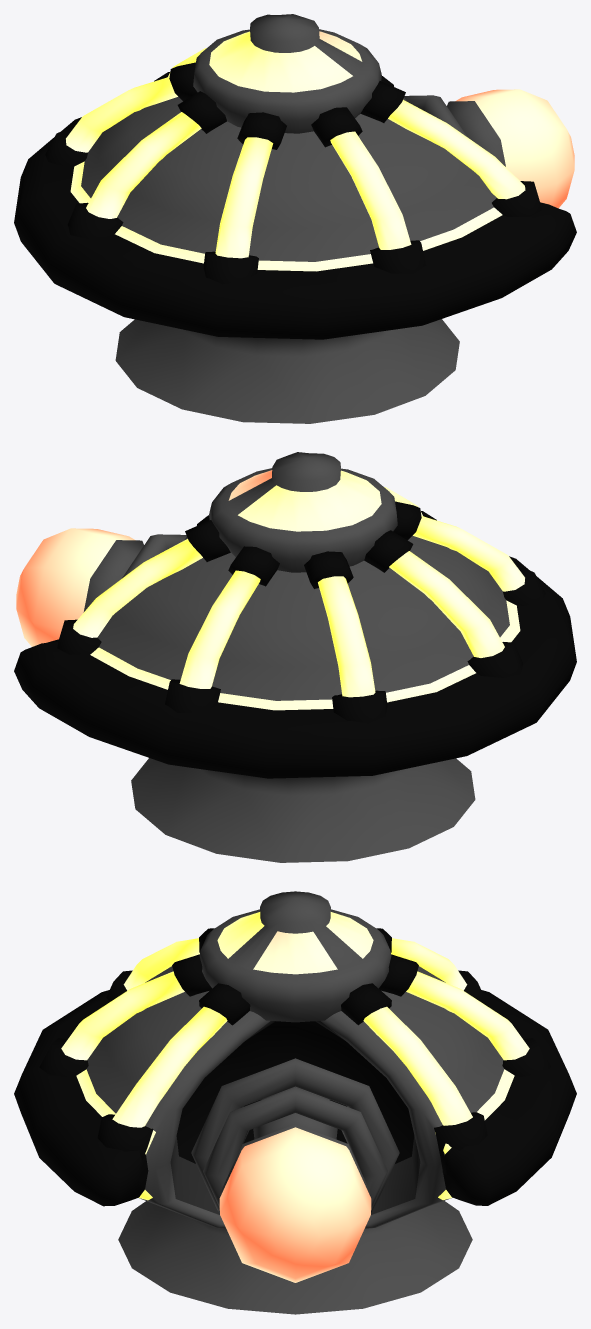
Rendered from PH_mesh_Traps_LazerBumper.fbx.
The picture shows the model from 3 angles, top to bottom: view 1: azimuth 30°, elevation 25°; view 2: azimuth 150°, elevation 25°; view 3: azimuth 270°, elevation 25°; orthographic projection.
Parts seen in each view (by area): view 1: mesh_Factory_Trap_BumperLaserTurret; view 2: mesh_Factory_Trap_BumperLaserTurret; view 3: mesh_Factory_Trap_BumperLaserTurret.
Boxes of the visible parts, x1=… form: mesh_Factory_Trap_BumperLaserTurret: x1=14, y1=14, x2=576, y2=423; mesh_Factory_Trap_BumperLaserTurret: x1=14, y1=452, x2=576, y2=862; mesh_Factory_Trap_BumperLaserTurret: x1=14, y1=891, x2=576, y2=1314.
Bounding box in the file's own units: 3.2 × 1.97 × 2.96.
